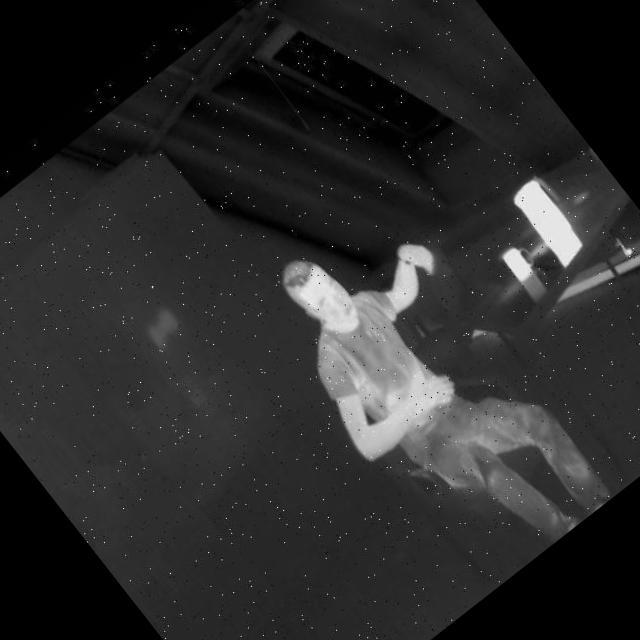person: (241, 182, 630, 604)
